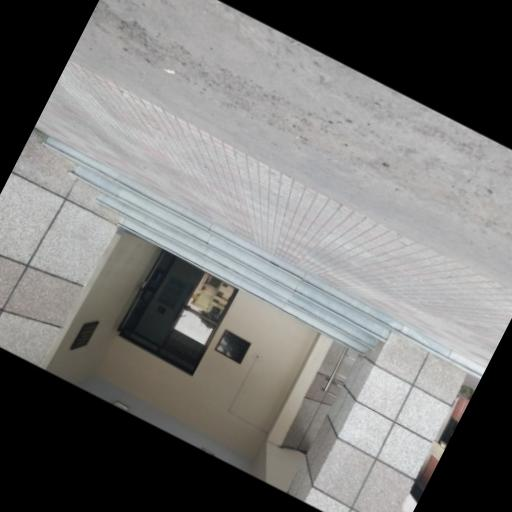stairs: (43, 136, 485, 376)
